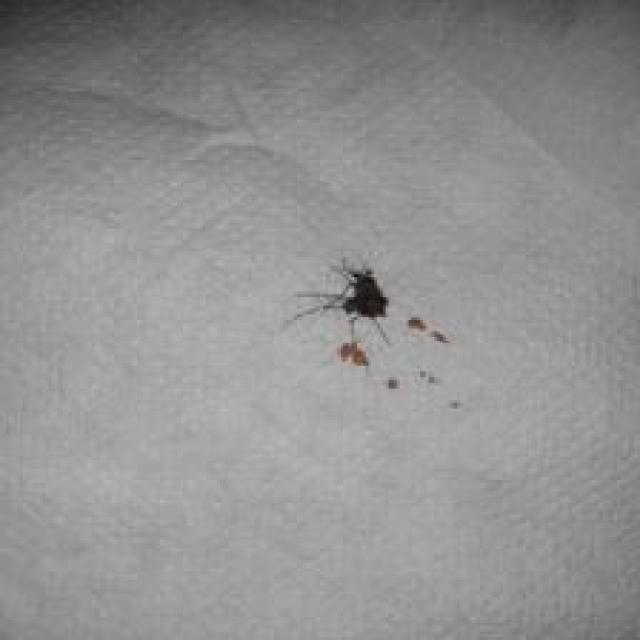Aedes albopictus: (283, 256, 451, 367)
